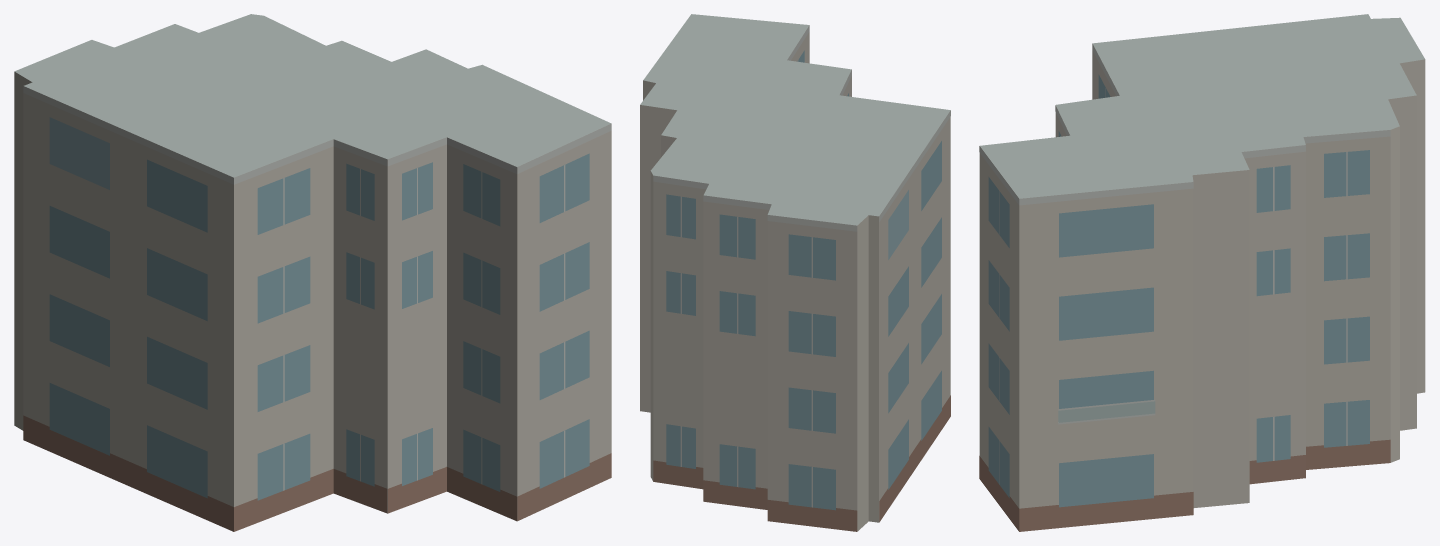
File: survey-upis-32641550.glb
3 renders of one model, left to right at view 1: azimuth 30°, elevation 25°; view 2: azimuth 150°, elevation 25°; view 3: azimuth 270°, elevation 25°, orthographic. The views are drawn at different scales.
Visible parts, largest first — view 1: survey-upis-32641550.tmp; view 2: survey-upis-32641550.tmp; view 3: survey-upis-32641550.tmp.
Part boxes in pixels (x1,y1,x2,y2): survey-upis-32641550.tmp: [14, 14, 611, 531]; survey-upis-32641550.tmp: [640, 14, 950, 531]; survey-upis-32641550.tmp: [979, 14, 1425, 531].
Bounding box in the file's own units: 14.53 × 12.2 × 14.81.
